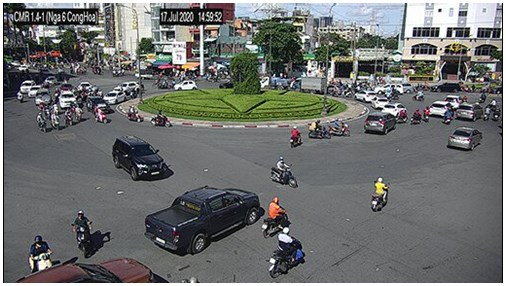xe_hoi: (143, 186, 261, 254), (113, 135, 169, 182), (446, 127, 483, 153), (362, 112, 395, 135), (456, 101, 480, 122), (86, 96, 110, 113), (58, 91, 77, 110), (383, 103, 406, 117), (432, 83, 462, 93), (103, 91, 126, 104), (114, 81, 140, 92), (173, 79, 196, 91), (354, 90, 376, 101), (19, 79, 36, 93), (371, 96, 389, 108), (28, 84, 42, 98), (445, 95, 461, 106), (59, 84, 74, 92), (44, 76, 56, 85)
xe_khach: (376, 83, 404, 95)
xe_may: (268, 227, 305, 279), (260, 197, 291, 237), (71, 209, 93, 258), (28, 234, 53, 271), (269, 157, 296, 187), (371, 176, 390, 212), (308, 119, 332, 140), (331, 117, 349, 139), (152, 109, 171, 128), (126, 106, 142, 123), (290, 126, 301, 150), (95, 105, 107, 125), (37, 112, 47, 133), (444, 104, 453, 125), (410, 108, 421, 125), (412, 88, 426, 101), (396, 110, 408, 125), (51, 110, 59, 132), (491, 105, 501, 122), (64, 108, 72, 128), (74, 102, 82, 121), (391, 88, 401, 102), (423, 106, 431, 123), (482, 105, 490, 121), (16, 90, 24, 104), (479, 91, 487, 104), (129, 88, 136, 100)
xe_tai: (292, 77, 328, 93)
